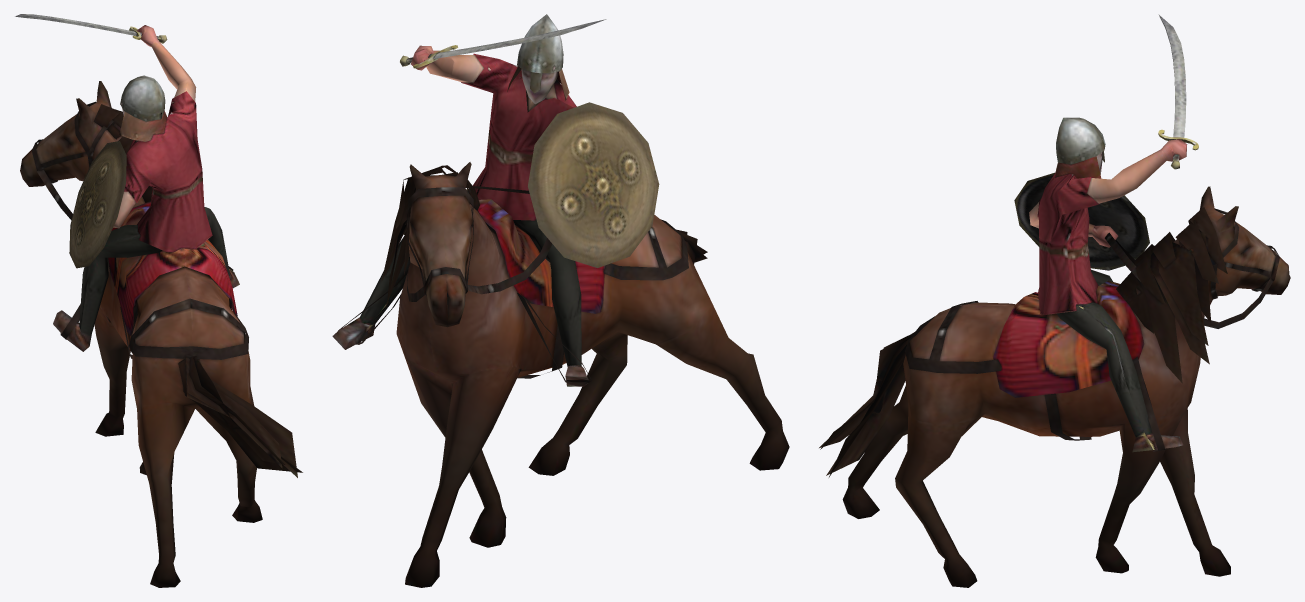
The model's file is Horsemen.glb.
3 views of the same model, side by side, from view 1: azimuth 30°, elevation 25°; view 2: azimuth 150°, elevation 25°; view 3: azimuth 270°, elevation 25° (orthographic). The views are drawn at different scales.
Visible parts, largest first — view 1: Horse, Man, Shield, Sabre, Straps; view 2: Horse, Man, Shield, Straps, Sabre; view 3: Horse, Man, Shield, Sabre, Straps.
Part boxes in pixels (<box>): Horse: <box>20,81,302,587</box>; Man: <box>53,25,239,351</box>; Shield: <box>69,141,126,268</box>; Sabre: <box>15,14,167,43</box>; Straps: <box>37,169,233,339</box>; Horse: <box>381,162,789,587</box>; Man: <box>332,14,588,386</box>; Shield: <box>528,102,659,267</box>; Straps: <box>338,186,591,385</box>; Sabre: <box>400,19,606,68</box>; Horse: <box>819,186,1290,587</box>; Man: <box>1029,117,1187,452</box>; Shield: <box>1014,172,1149,270</box>; Sabre: <box>1158,14,1198,169</box>; Straps: <box>1104,232,1272,451</box>.
Size of the model in its own units: 1.46 by 2.96 by 2.56.
Materials: 2 (2 with a texture image).
